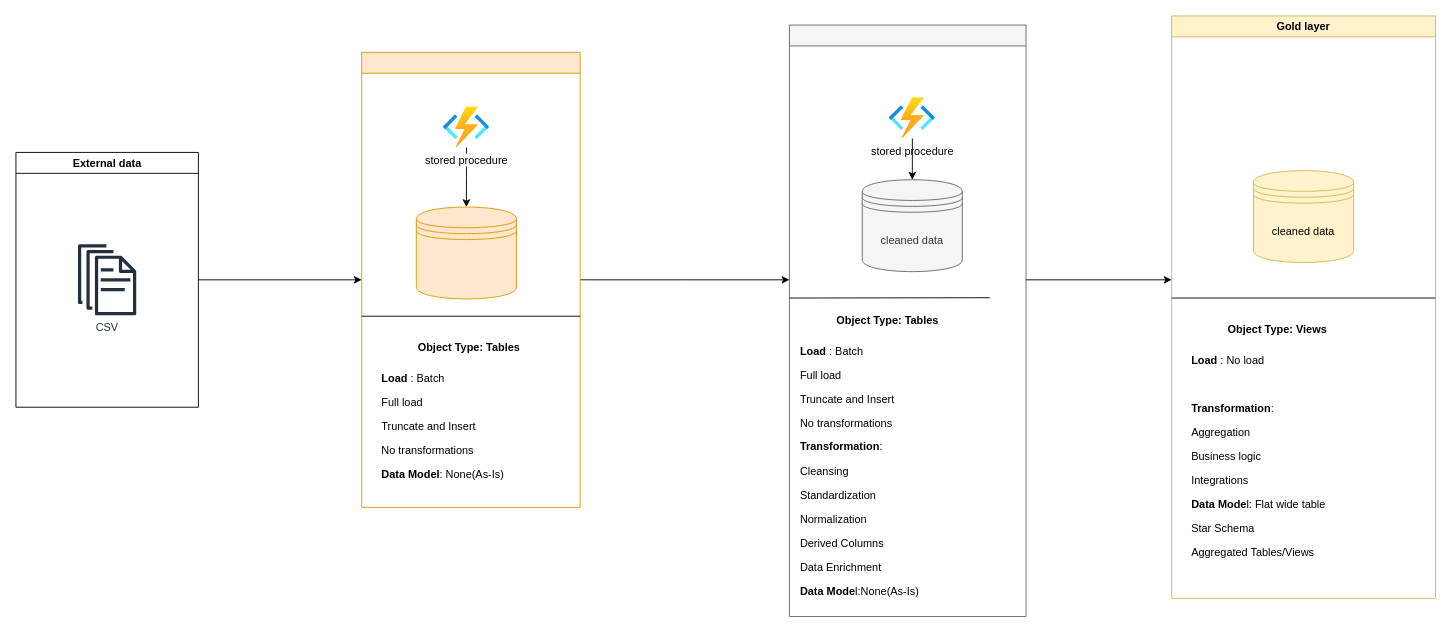
Image size: 1452x644. Some labels were removed from this diagram. The box of each missing label's shape, as (x1, y1, x2, y2) in pixels:
Bronze layer: (361, 51, 580, 507)
raw data: (415, 206, 516, 299)
Silver layer: (789, 24, 1026, 617)
